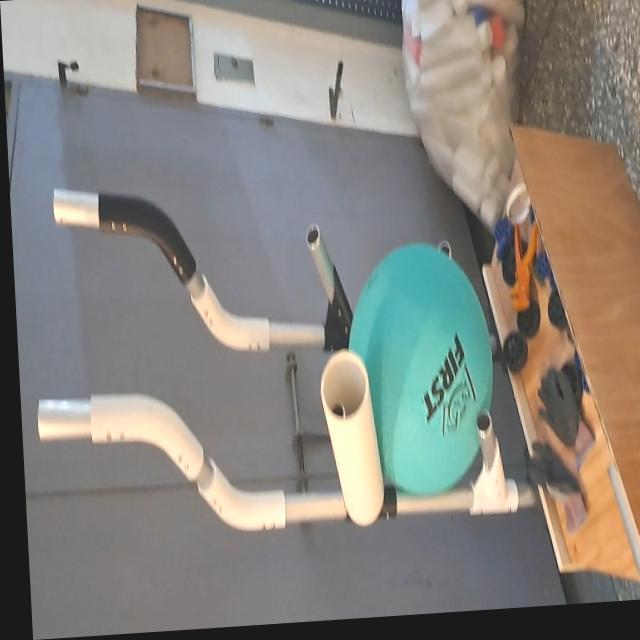ALGAE: (341, 235, 500, 501)
CORAL: (315, 339, 387, 525)
